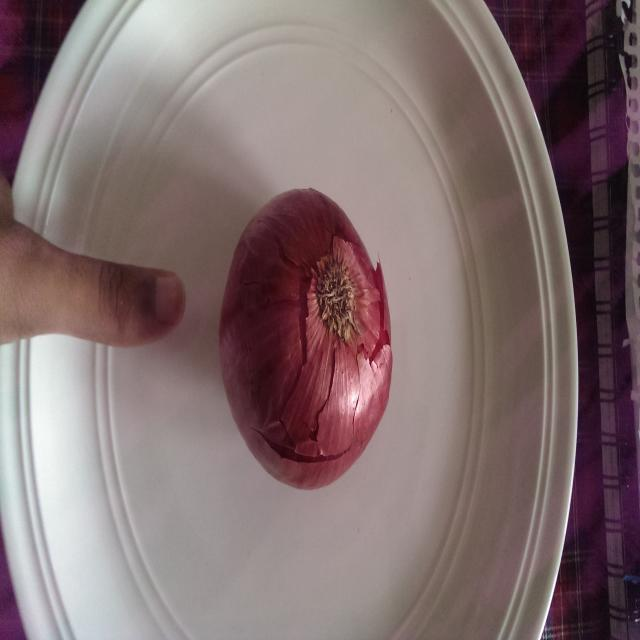onion: (218, 186, 392, 490)
